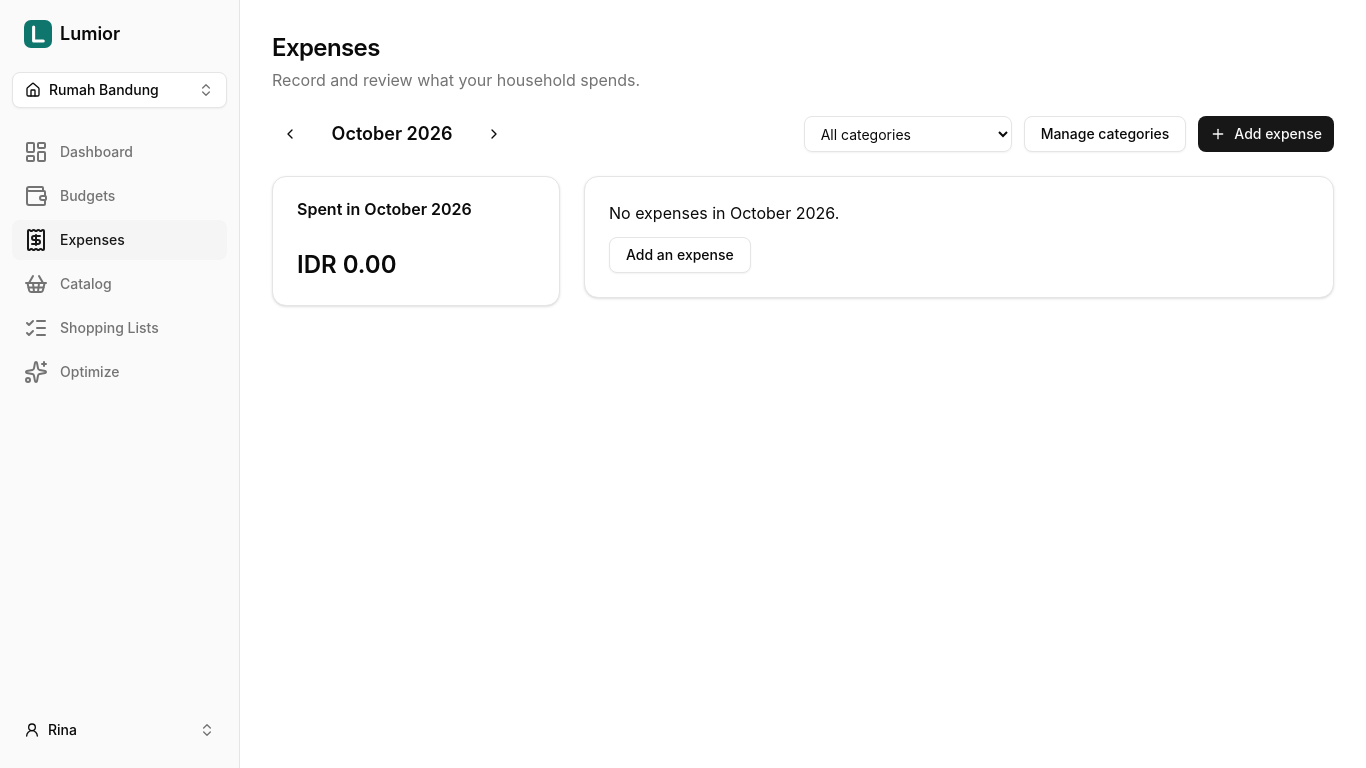
Test: one month at a time › the previous month is shown and put in the URL
The width and height of the screenshot is (1366, 768).
Click the button named "Previous month" at (290, 134), box [272, 116, 308, 152]
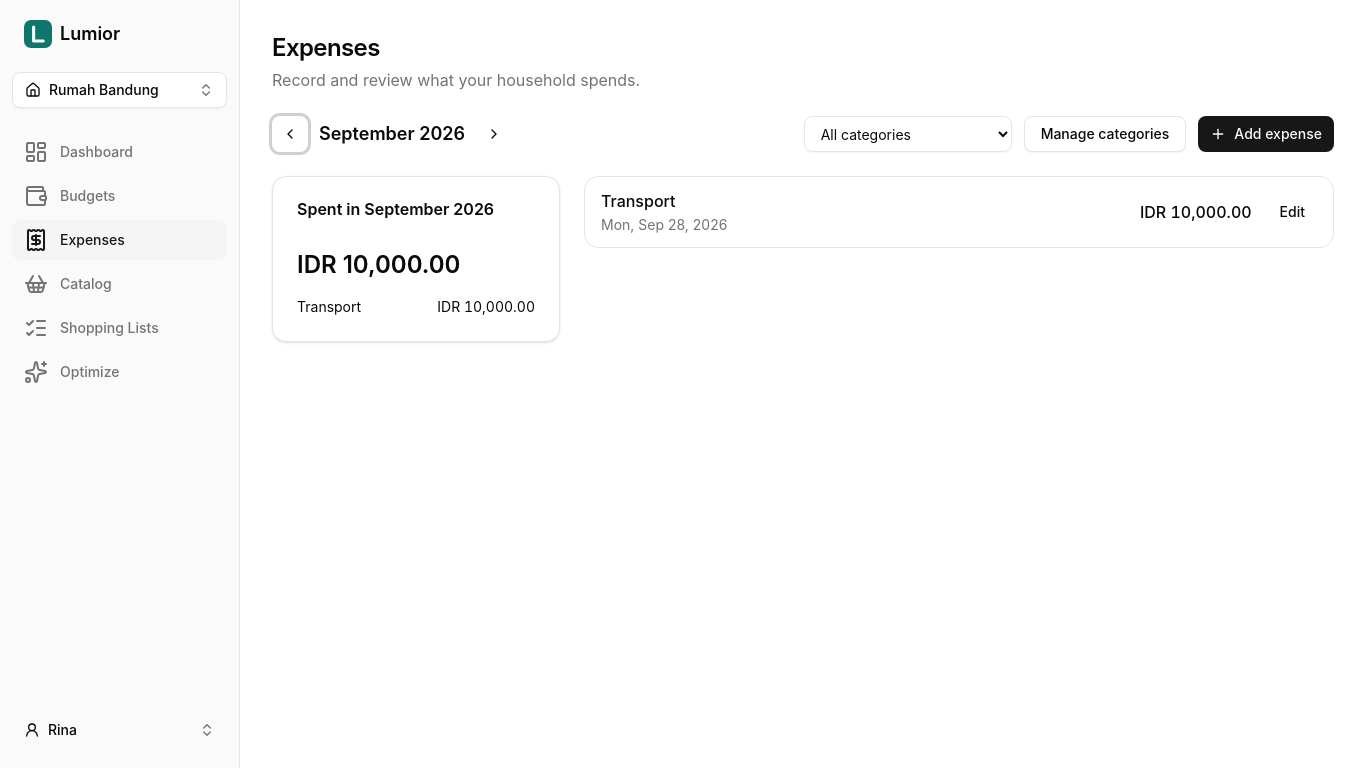
expect the heading "September 2026" is shown: met, box [312, 120, 472, 148]
Click the button named "Next month" at (494, 134), box [476, 116, 512, 152]
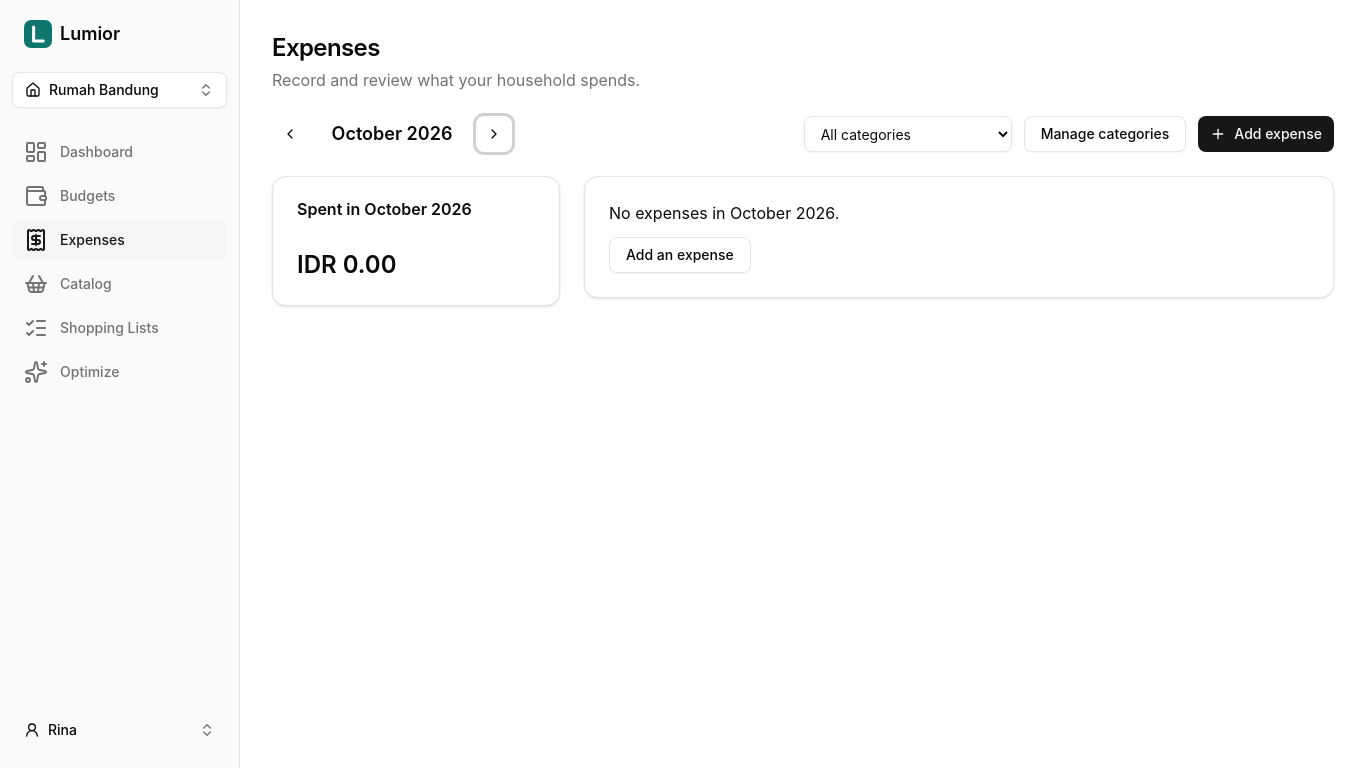
expect the heading "October 2026" is shown: met, box [332, 123, 452, 144]
